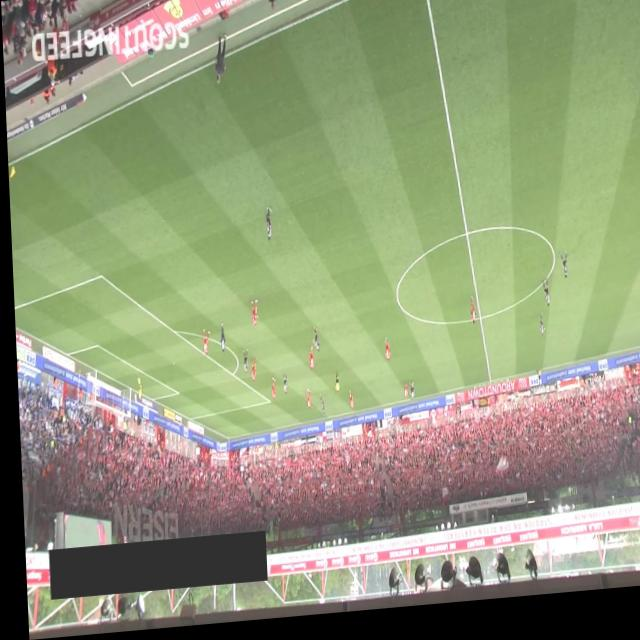goalkeeper: (132, 379, 138, 403)
player: (555, 260, 564, 289), (198, 331, 207, 358), (538, 287, 546, 317), (262, 211, 269, 245), (247, 303, 255, 332), (215, 326, 222, 356), (308, 331, 316, 357), (304, 348, 311, 376), (466, 304, 473, 332), (238, 352, 245, 378), (246, 360, 253, 385), (380, 343, 387, 367), (277, 378, 283, 400), (267, 381, 272, 404), (535, 322, 540, 345), (301, 393, 306, 414), (405, 386, 410, 407), (398, 388, 404, 405), (344, 395, 349, 414), (315, 399, 319, 419)
referee: (329, 376, 335, 398), (531, 377, 537, 396)
